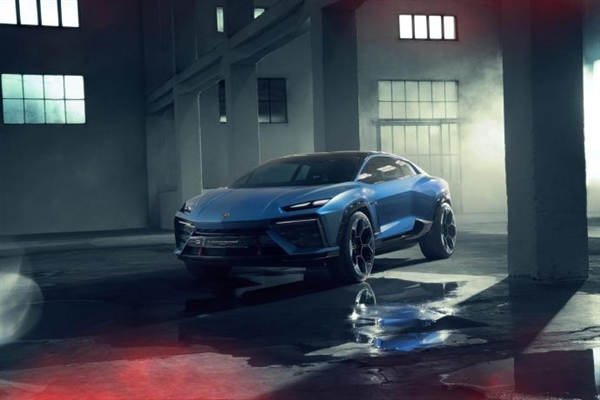other: (175, 152, 463, 281)
